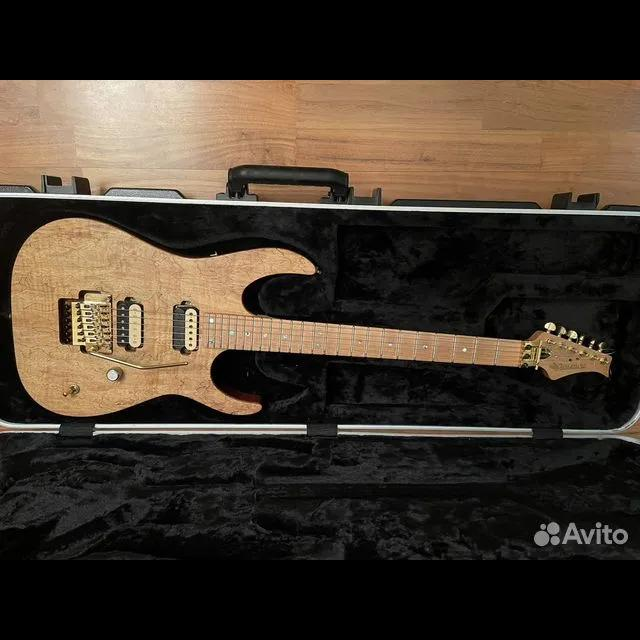Electric-Guitar: (11, 218, 614, 414)
